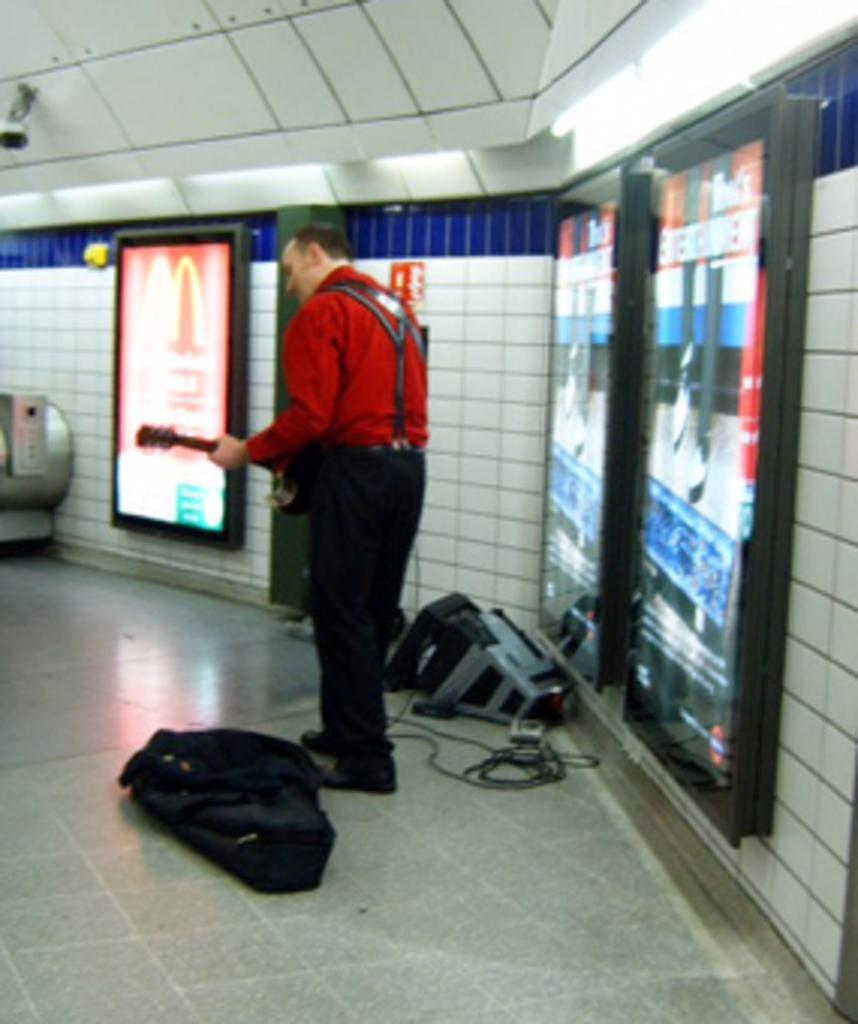Luggage-and-bags: (120, 720, 337, 898)
